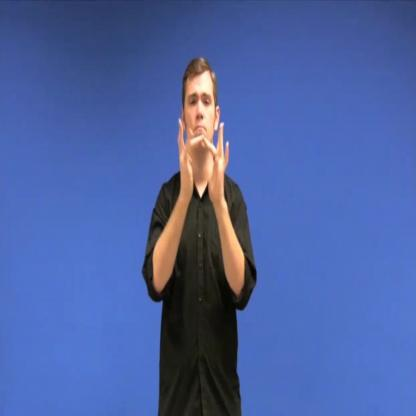Internet: (166, 98, 240, 204)
